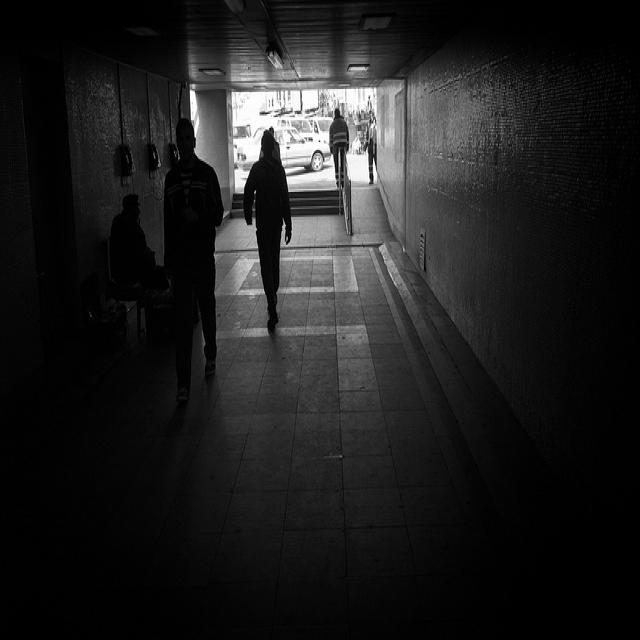People: (159, 114, 233, 408), (109, 192, 169, 324), (323, 107, 357, 193)
